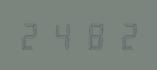eight: (78, 20, 107, 50)
four: (48, 20, 77, 50)
two: (18, 20, 47, 50), (108, 20, 137, 50)
